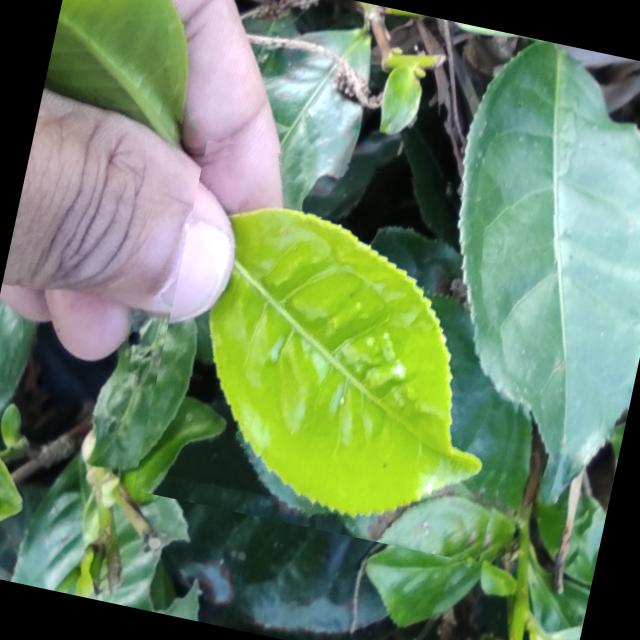Category C(4-7 days): (132, 128, 570, 566)
